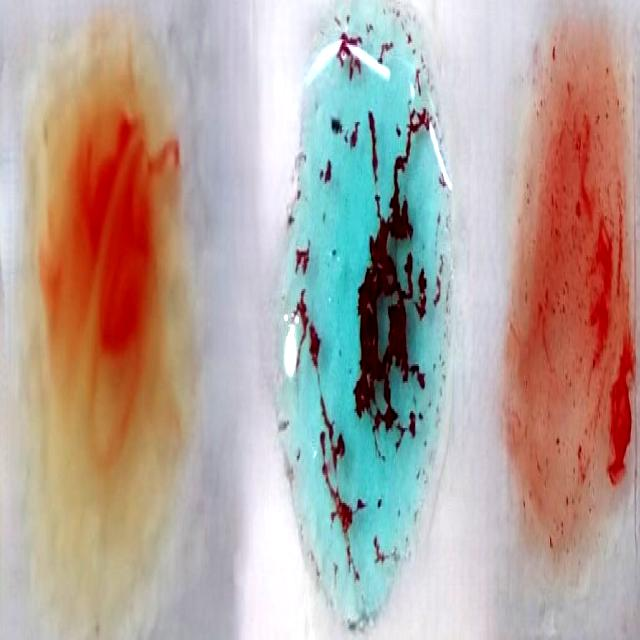A: (278, 17, 448, 629)
D: (505, 27, 636, 567)
